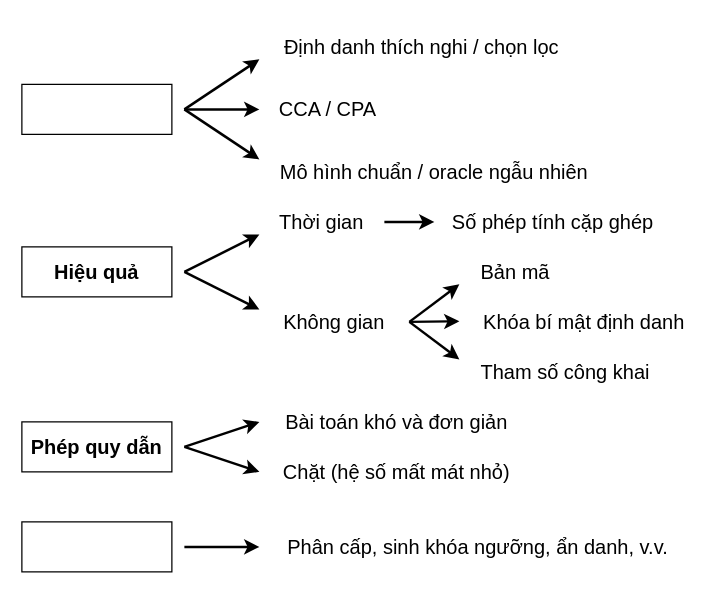
Image size: 719x594. Some labels were removed from this diagram. The box of each missing label's shape, as (x1, y1, x2, y2) in pixels:
An toàn: (21, 83, 172, 134)
Tính năng: (21, 521, 172, 572)
